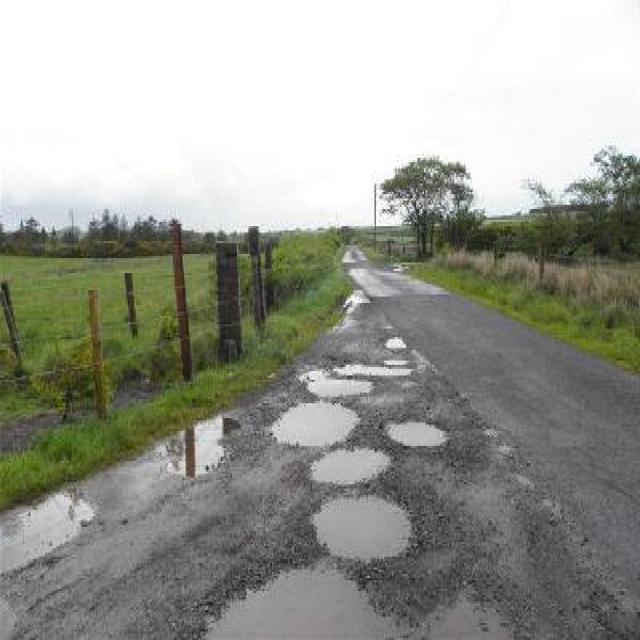pothole: (187, 557, 411, 636), (309, 488, 416, 559), (416, 582, 522, 638), (270, 397, 364, 446), (309, 442, 392, 486), (384, 414, 453, 448), (299, 369, 373, 397), (336, 362, 416, 378), (384, 333, 408, 350)
